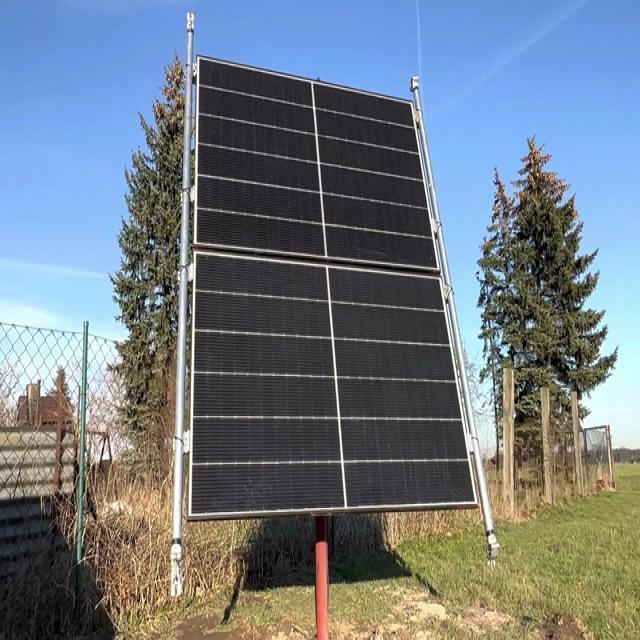Normal Solar Panel: (188, 56, 480, 519)
